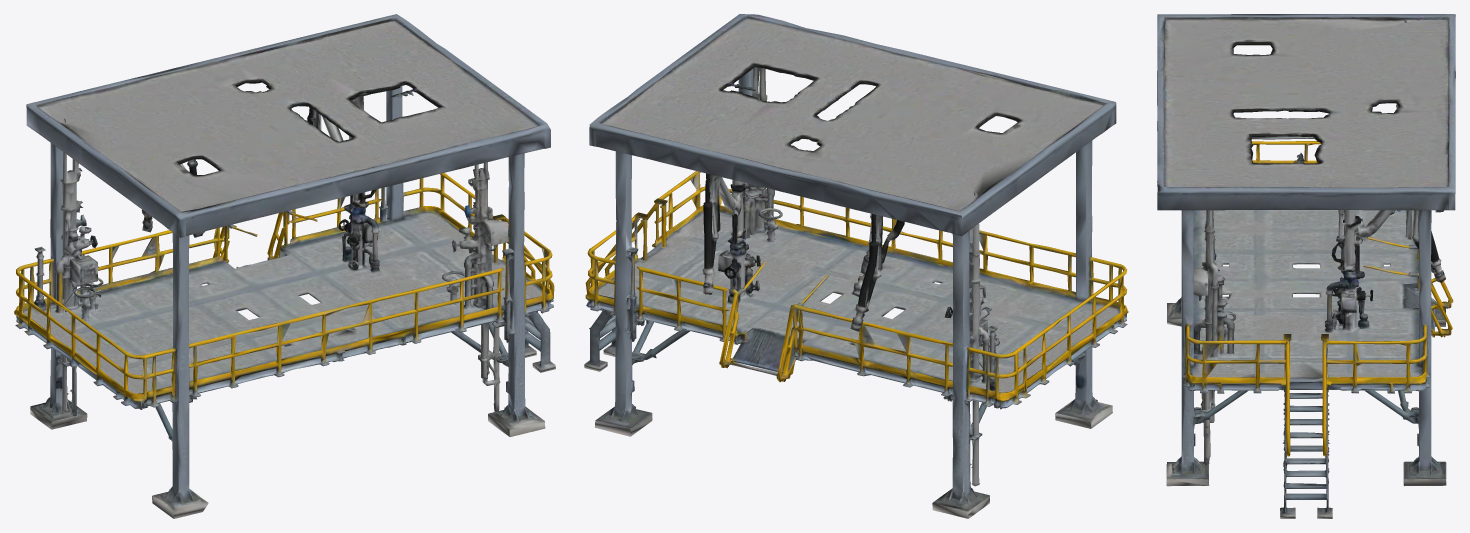
The model's file is fuel-gantry.0c4f6f919f.glb.
3 views of the same model, side by side, from view 1: azimuth 30°, elevation 25°; view 2: azimuth 150°, elevation 25°; view 3: azimuth 270°, elevation 25° (orthographic). The views are drawn at different scales.
Parts seen in each view (by area): view 1: tripo_node_031a4715-51e3-4ef9-a875-28a66eadccb1; view 2: tripo_node_031a4715-51e3-4ef9-a875-28a66eadccb1; view 3: tripo_node_031a4715-51e3-4ef9-a875-28a66eadccb1.
Boxes of the visible parts, bbox=[...] form: tripo_node_031a4715-51e3-4ef9-a875-28a66eadccb1: bbox=[14, 14, 555, 518]; tripo_node_031a4715-51e3-4ef9-a875-28a66eadccb1: bbox=[584, 14, 1128, 518]; tripo_node_031a4715-51e3-4ef9-a875-28a66eadccb1: bbox=[1157, 14, 1455, 518].
Bounding box in the file's own units: 15.27 × 9.67 × 8.57.
1 material, 1 textured.
